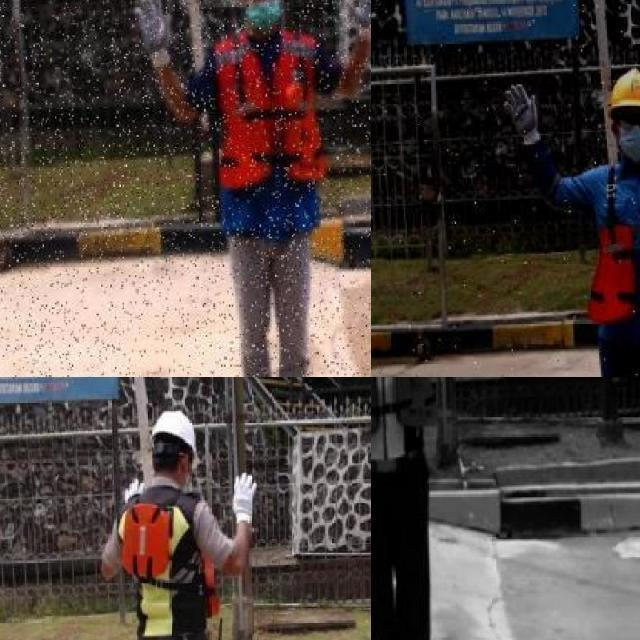apron: (132, 0, 175, 70), (502, 81, 542, 148), (232, 473, 258, 522), (344, 0, 371, 43)
